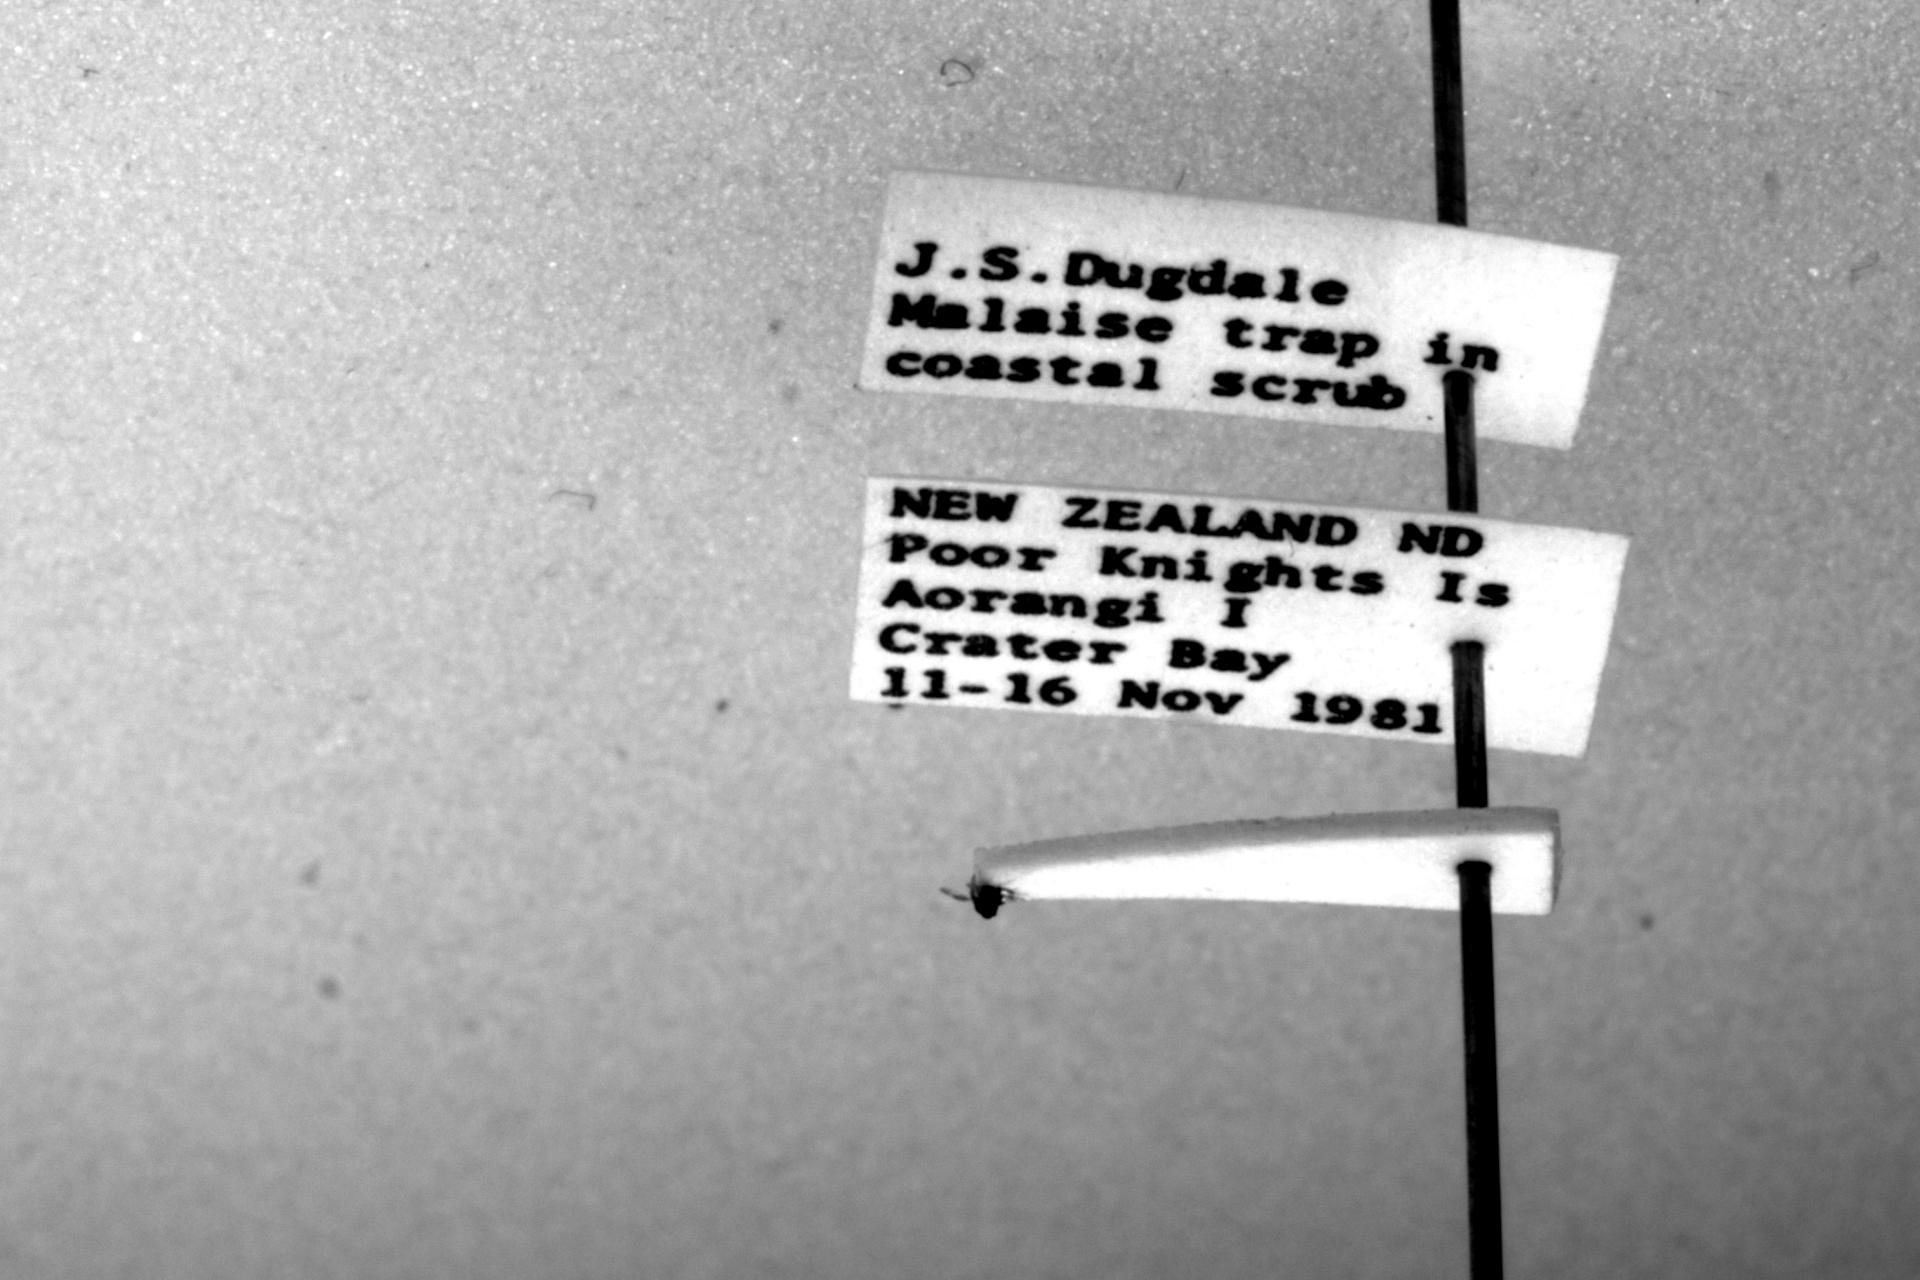typed_label: (851, 476, 1627, 757), (863, 173, 1616, 450)
